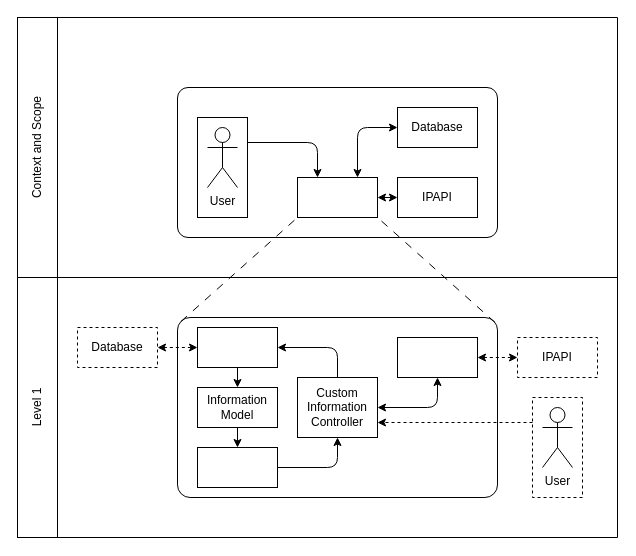
Some shapes in this 636 by 556 pixel diagram are drawn without their labels. Here are the shapes that lost their labels. From the top down, the box of each, then its label:
(296, 176, 378, 218): SQS Demo
(196, 326, 278, 368): Repository
(396, 336, 478, 378): IPAPI Service
(196, 446, 278, 488): Information Builder
